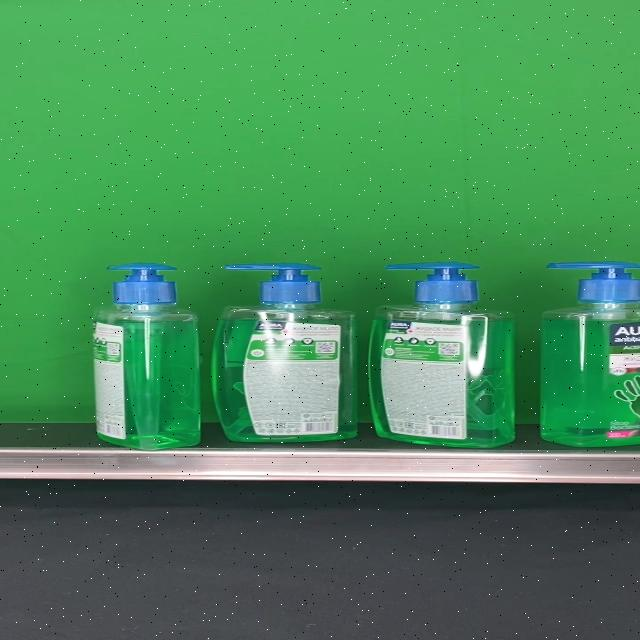Bottle: (368, 262, 516, 449), (211, 264, 357, 442), (91, 262, 201, 449), (540, 260, 640, 447)
Cap: (223, 263, 321, 305), (386, 262, 480, 304), (547, 260, 640, 302), (108, 262, 178, 304)
